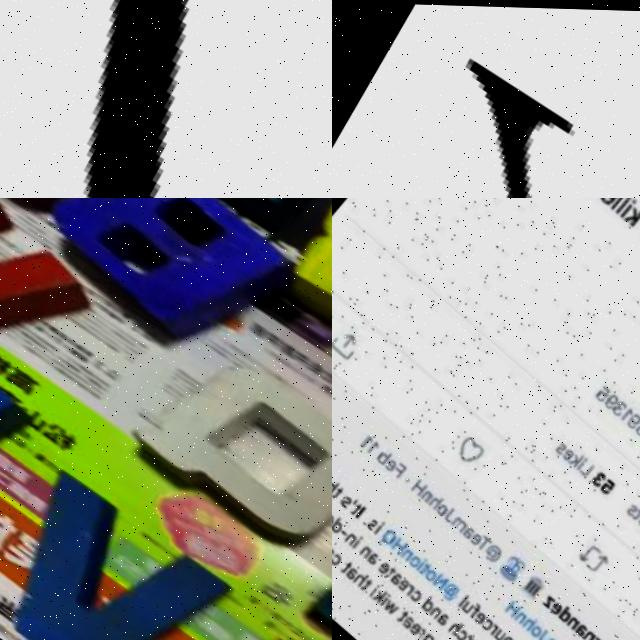1: (613, 403, 631, 422), (353, 433, 371, 452), (359, 438, 376, 458)
3: (605, 396, 624, 416), (583, 467, 602, 487), (627, 414, 640, 435)
5: (588, 381, 607, 401), (591, 475, 610, 494)
8: (635, 422, 640, 443)
9: (619, 408, 639, 429), (597, 388, 616, 409)
B: (28, 198, 315, 369)
D: (140, 198, 332, 236)
J: (0, 0, 332, 198)
Q: (102, 324, 332, 572)
R: (271, 198, 332, 397)
V: (0, 468, 214, 640)
W: (332, 28, 640, 198)
